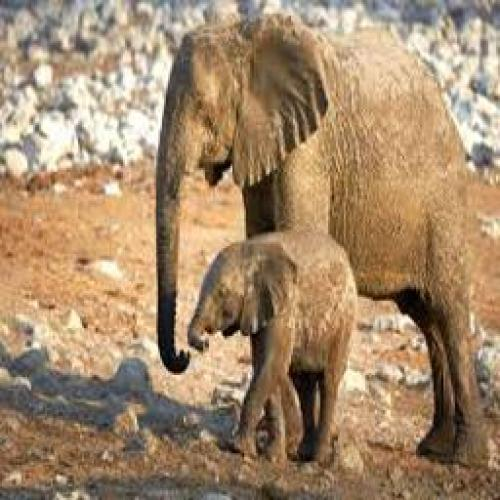african_elephant-endangered: (156, 12, 494, 469), (187, 228, 361, 465)
